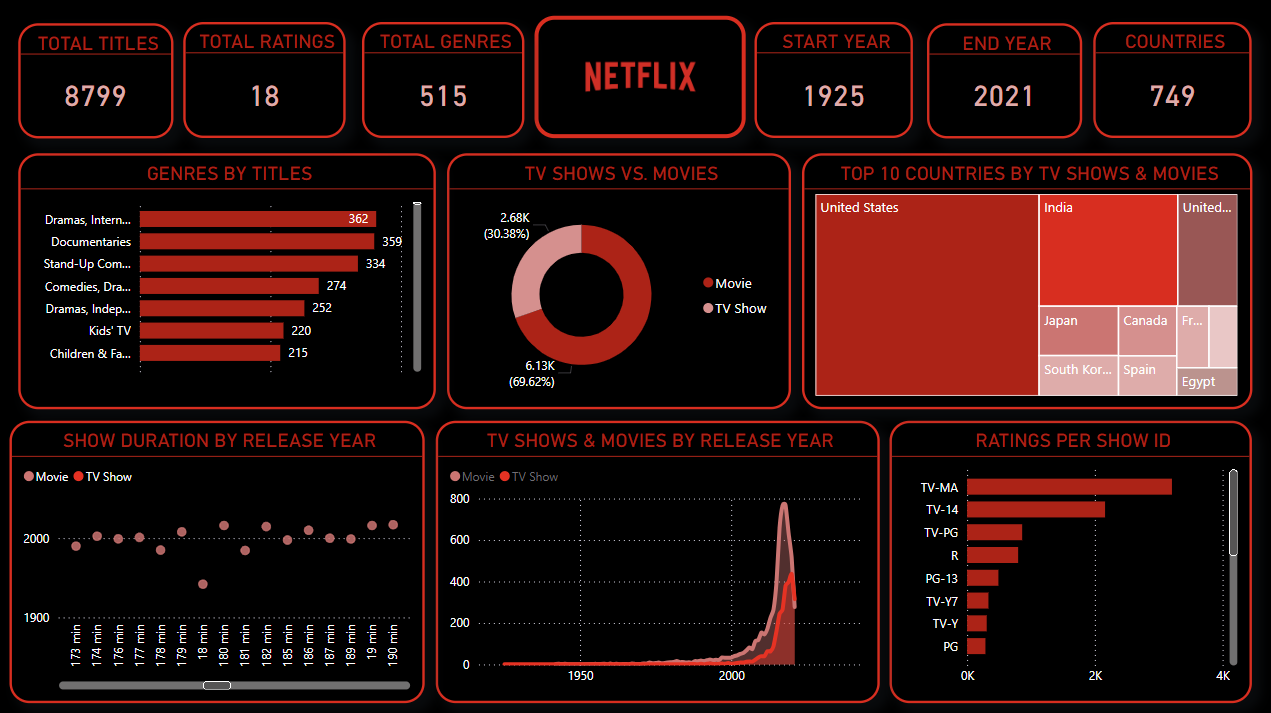

Layout of this report page (visuals, bound fields, positions):
{"tool":"powerbi","page":{"name":"Page 1","canvas":[1280,720],"ordinal":0},"visuals":[{"type":"donutChart","title":"TV SHOWS VS. MOVIES","fields":{"Y":["CountNonNull(Netflix_dataset.show_id)"],"Category":["Netflix_dataset.type"]},"box":[450,156.2,343.8,256.2],"z":0},{"type":"barChart","title":"RATINGS PER SHOW ID","fields":{"Category":["Netflix_dataset.rating"],"Y":["CountNonNull(Netflix_dataset.show_id)"]},"box":[892.5,423.8,362.5,282.5],"z":1000},{"type":"barChart","title":"GENRES BY TITLES","fields":{"Category":["Netflix_dataset.listed_in"],"Y":["CountNonNull(Netflix_dataset.show_id)"]},"box":[21.2,156.2,417.5,256.2],"z":2000},{"type":"areaChart","title":"TV SHOWS & MOVIES BY RELEASE YEAR","fields":{"Category":["Netflix_dataset.release_year"],"Y":["CountNonNull(Netflix_dataset.show_id)"],"Series":["Netflix_dataset.type"]},"box":[438.8,423.8,443.8,282.5],"z":3000},{"type":"treemap","title":"TOP 10 COUNTRIES BY TV SHOWS & MOVIES","fields":{"Group":["Netflix_dataset.country"],"Values":["Count(Netflix_dataset.show_id)"]},"box":[805,156.2,450,256.2],"z":4000},{"type":"scatterChart","title":"SHOW DURATION BY RELEASE YEAR","fields":{"Y":["Avg(Netflix_dataset.release_year)"],"X":["Netflix_dataset.duration"],"Series":["Netflix_dataset.type"]},"box":[12.5,423.8,415,282.5],"z":5000},{"type":"image","box":[537.5,18.8,211.2,122.5],"z":6000},{"type":"card","title":"TOTAL TITLES","fields":{"Values":["Count(Netflix_dataset.title)"]},"box":[21.2,26.2,155,115],"z":7000},{"type":"card","title":"TOTAL RATINGS","fields":{"Values":["Count(Netflix_dataset.rating)"]},"box":[186.2,25,162.5,116.2],"z":8000},{"type":"card","title":"TOTAL GENRES","fields":{"Values":["Count(Netflix_dataset.listed_in)"]},"box":[365,25,162.5,116.2],"z":9000},{"type":"card","title":"COUNTRIES","fields":{"Values":["Count(Netflix_dataset.country)"]},"box":[1096.2,25,158.8,116.2],"z":10000},{"type":"card","title":"END YEAR","fields":{"Values":["Max(Netflix_dataset.release_year)"]},"box":[930,26.2,155,115],"z":11000},{"type":"card","title":"START YEAR","fields":{"Values":["Min(Netflix_dataset.release_year)"]},"box":[757.5,25,158.8,116.2],"z":12000}]}

Visuals, with their boxes in screenshot pixels (x1, y1, x2, y2), scaled from the page's 1280x720 canvas onto the 1271x713 screenshot:
"TV SHOWS VS. MOVIES" donutChart: [447, 155, 788, 408]
"RATINGS PER SHOW ID" barChart: [886, 420, 1246, 699]
"GENRES BY TITLES" barChart: [21, 155, 436, 408]
"TV SHOWS & MOVIES BY RELEASE YEAR" areaChart: [436, 420, 876, 699]
"TOP 10 COUNTRIES BY TV SHOWS & MOVIES" treemap: [799, 155, 1246, 408]
"SHOW DURATION BY RELEASE YEAR" scatterChart: [12, 420, 424, 699]
image: [534, 19, 743, 140]
"TOTAL TITLES" card: [21, 26, 175, 140]
"TOTAL RATINGS" card: [185, 25, 346, 140]
"TOTAL GENRES" card: [362, 25, 524, 140]
"COUNTRIES" card: [1088, 25, 1246, 140]
"END YEAR" card: [923, 26, 1077, 140]
"START YEAR" card: [752, 25, 910, 140]
